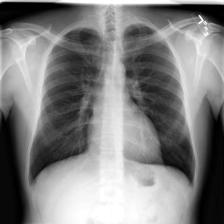normal: (24, 23, 200, 195)
